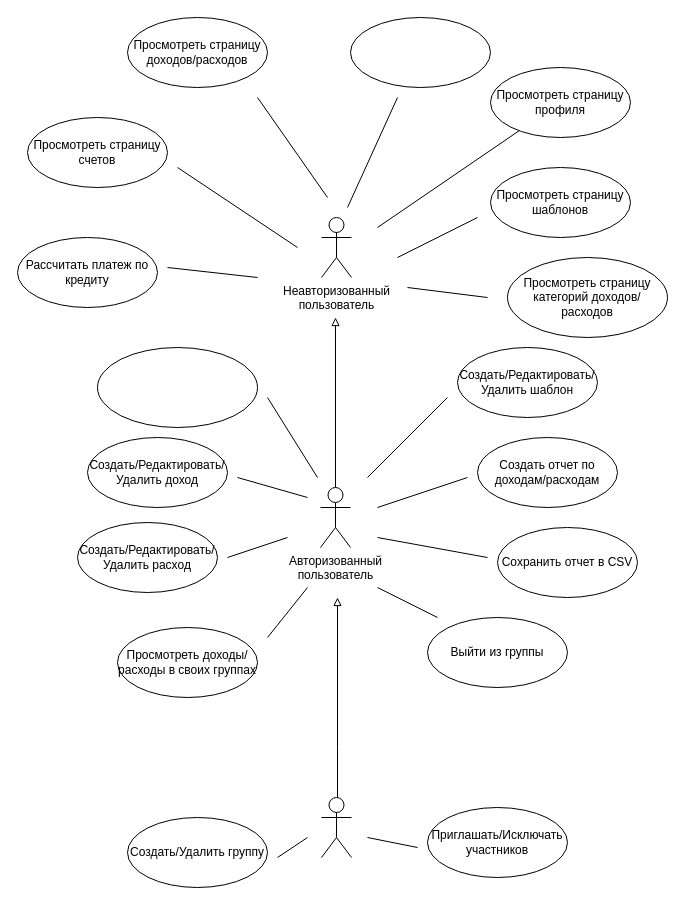
This 685x911 diagram has some shape labels left out. The shapes that lost their labels are listed below. From the top down, each one's box as (x1, y1, x2, y2) in pixels, then its label:
(350, 16, 490, 88): Просмотреть страницу групп
(96, 346, 258, 428): Создать/Редактировать/Удалить категорию дохода/расхода
(320, 796, 352, 858): Создатель группы
